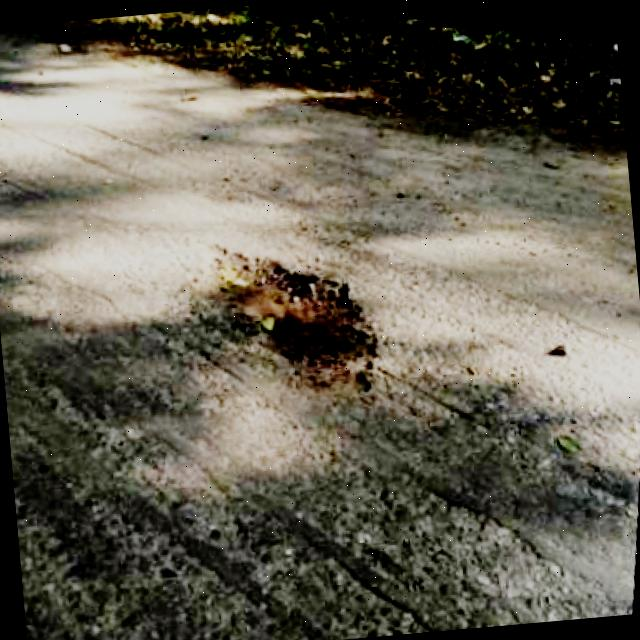pothole: (208, 230, 381, 397)
